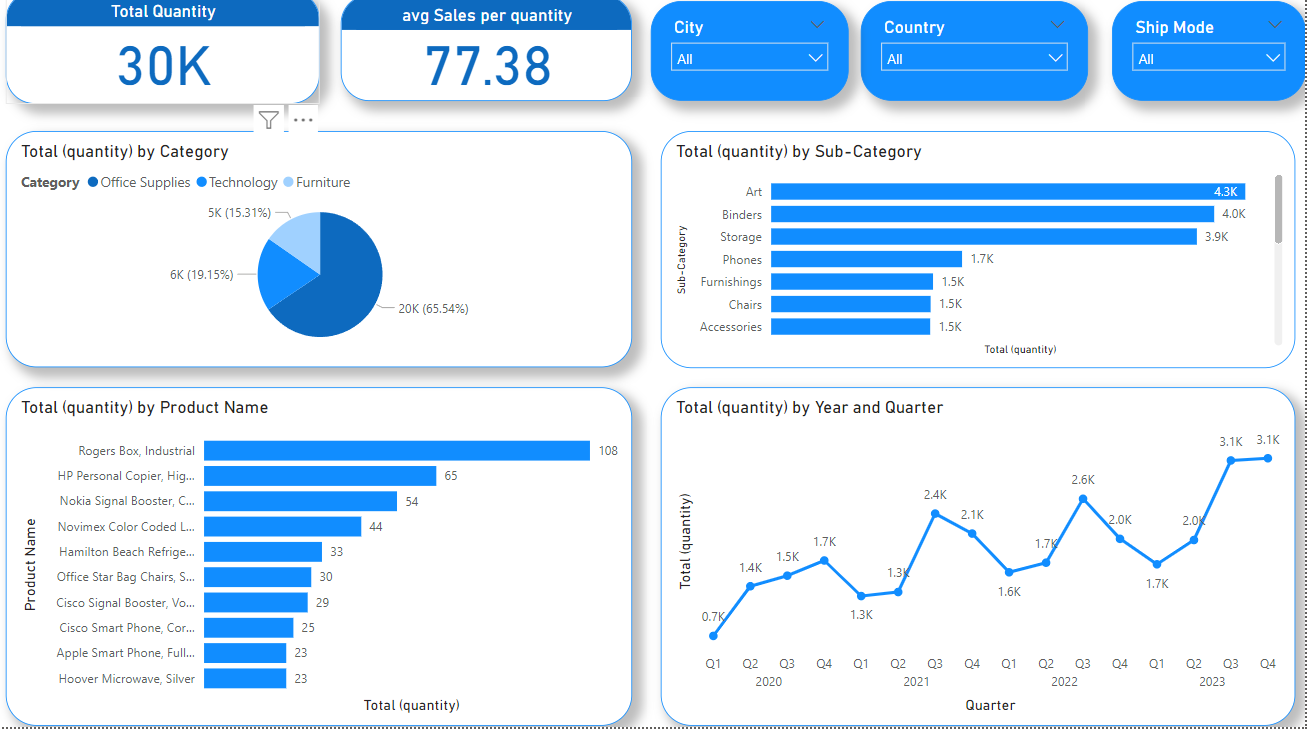

The page's visual inventory and layout, read from the dashboard file:
{"tool":"powerbi","page":{"name":"Quantity Analysis","canvas":[1280,720],"ordinal":6},"visuals":[{"type":"clusteredBarChart","fields":{"Category":["Dim - Product.Product Name"],"Y":["__Measures.Total (quantity)"]},"box":[8.6,387.6,612.6,331.4],"z":0},{"type":"clusteredBarChart","fields":{"Category":["Dim - Sub-Category.Sub-Category"],"Y":["__Measures.Total (quantity)"]},"box":[649.3,137,621.2,232.3],"z":1000},{"type":"lineChart","fields":{"Category":["Dim - Date.Year Hierarchy.Year","Dim - Date.Year Hierarchy.Quarter","Dim - Date.Year Hierarchy.MonthNum","Dim - Date.Year Hierarchy.MonthName","Dim - Date.Year Hierarchy.WeekDay","Dim - Date.Year Hierarchy.DAY"],"Y":["__Measures.Total (quantity)"]},"box":[649.3,387.6,621.2,331.4],"z":2000},{"type":"pieChart","fields":{"Category":["Dim - Category.Category"],"Y":["__Measures.Total (quantity)"]},"box":[8.6,137,612.6,231.1],"z":3000},{"type":"slicer","fields":{"Values":["Dim - Ship Mode.Ship Mode"]},"box":[1090.8,9.8,189.5,97.8],"z":4000},{"type":"card","title":"Total Quantity","fields":{"Values":["__Measures.Total (quantity)"]},"box":[8.6,0,306.9,110.1],"z":5000},{"type":"slicer","fields":{"Values":["Dim - Country.Country"]},"box":[845,9.8,222.6,97.8],"z":6000},{"type":"slicer","fields":{"Values":["Dim - City.City"]},"box":[639.5,9.8,193.2,97.8],"z":7000},{"type":"card","title":"avg Sales per quantity","fields":{"Values":["__Measures.avg Sales per quantity"]},"box":[336.3,3.7,284.9,103.9],"z":8000}]}

Visuals, with their boxes in screenshot pixels (x1, y1, x2, y2), scaled from the page's 1280x720 canvas onto the 1308x730 screenshot:
clusteredBarChart - Dim - Product.Product Name x __Measures.Total (quantity): [x1=9, y1=393, x2=635, y2=729]
clusteredBarChart - Dim - Sub-Category.Sub-Category x __Measures.Total (quantity): [x1=664, y1=139, x2=1298, y2=374]
lineChart - Dim - Date.Year Hierarchy.Year x Dim - Date.Year Hierarchy.Quarter: [x1=664, y1=393, x2=1298, y2=729]
pieChart - Dim - Category.Category x __Measures.Total (quantity): [x1=9, y1=139, x2=635, y2=373]
slicer - Dim - Ship Mode.Ship Mode: [x1=1115, y1=10, x2=1307, y2=109]
"Total Quantity" card: [x1=9, y1=0, x2=322, y2=112]
slicer - Dim - Country.Country: [x1=863, y1=10, x2=1091, y2=109]
slicer - Dim - City.City: [x1=653, y1=10, x2=851, y2=109]
"avg Sales per quantity" card: [x1=344, y1=4, x2=635, y2=109]
